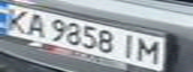5: (78, 24, 100, 51)
8: (97, 27, 118, 56), (63, 20, 84, 47)
9: (42, 16, 69, 43)
A: (21, 11, 51, 38)
I: (115, 33, 142, 61)
K: (0, 6, 33, 34)
M: (133, 36, 166, 65)
